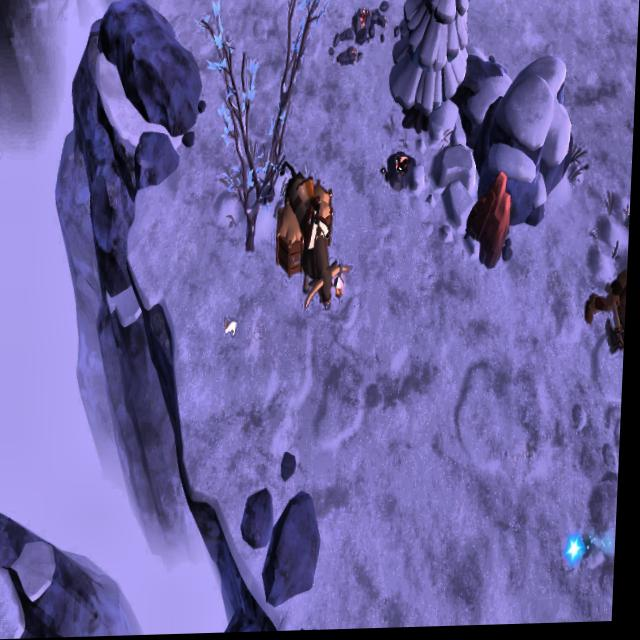rock_t5: (465, 172, 514, 272)
